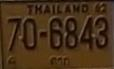0: (23, 18, 36, 50)
3: (95, 16, 108, 48)
4: (80, 16, 93, 49)
6: (49, 17, 62, 49)
7: (7, 18, 21, 50)
8: (65, 17, 77, 49)
TAK: (48, 55, 71, 67)
